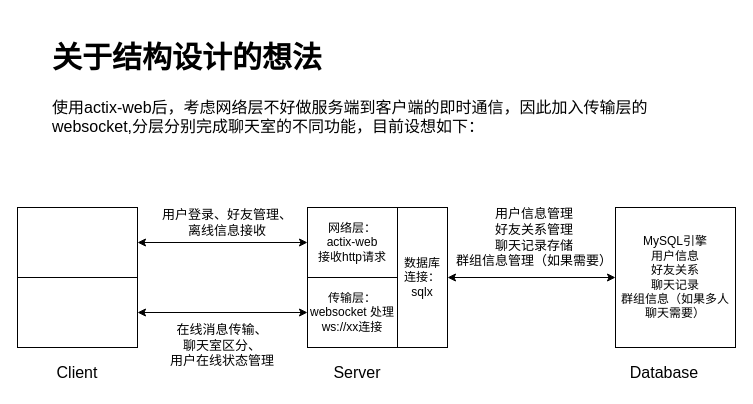
Image size: 753x404. Some labels were removed from this diagram. Here are the shapes that lost their labels. From the top down, the centre of each, then its label:
point 77,242: 网络层： 聊天室页面展示 有精力考虑用vue搭
point 77,312: 传输层： websocket
